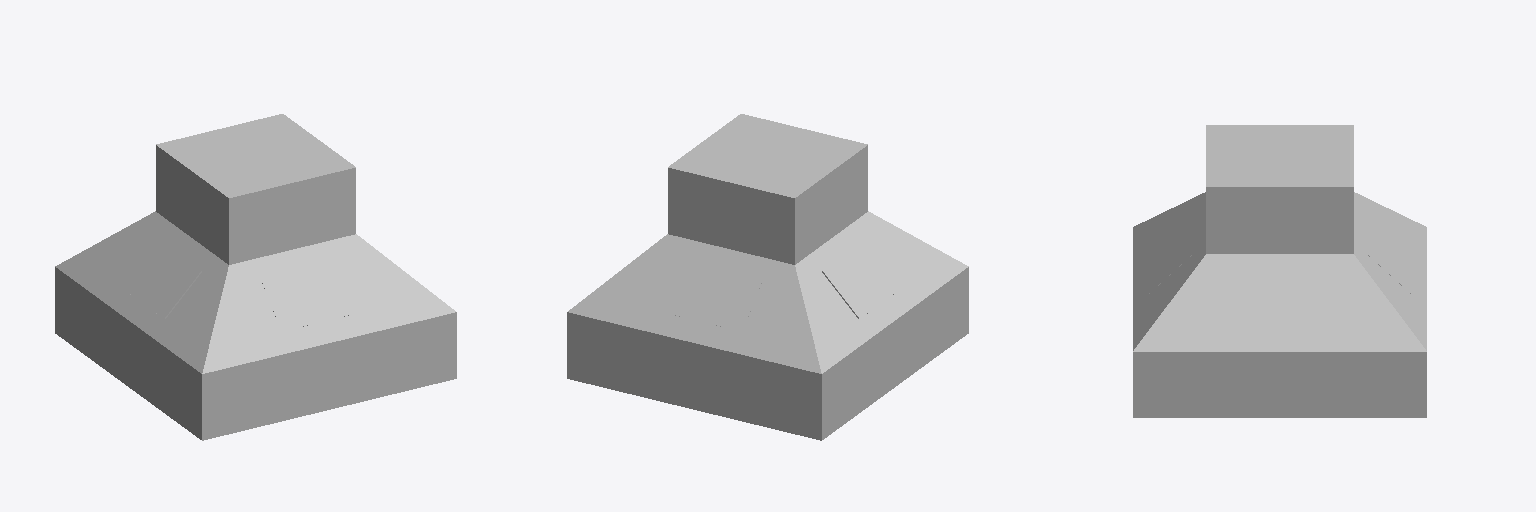
File: node_stabilizer_item.obj
3 renders of one model, left to right at view 1: azimuth 30°, elevation 25°; view 2: azimuth 150°, elevation 25°; view 3: azimuth 270°, elevation 25°, orthographic.
Parts seen in each view (by area): view 1: lock, cube; view 2: lock, cube; view 3: lock, cube.
Part boxes in pixels (x1,y1,x2,y2): lock: (55,114,456,440); cube: (118,238,360,331); lock: (567,114,968,440); cube: (663,238,905,331); lock: (1133,125,1426,417); cube: (1149,217,1410,329).
Size of the model in its own units: 1 by 0.75 by 1.